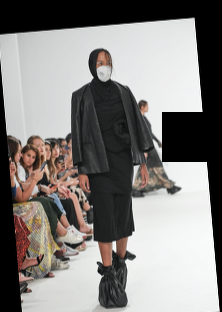with_mask: (96, 58, 113, 82)
without_mask: (23, 151, 37, 167), (13, 147, 23, 164), (35, 142, 45, 156), (51, 145, 60, 158), (45, 146, 52, 160), (61, 143, 69, 155), (145, 104, 150, 113)
